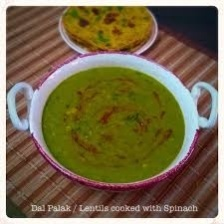sabzi: (41, 66, 185, 183)
